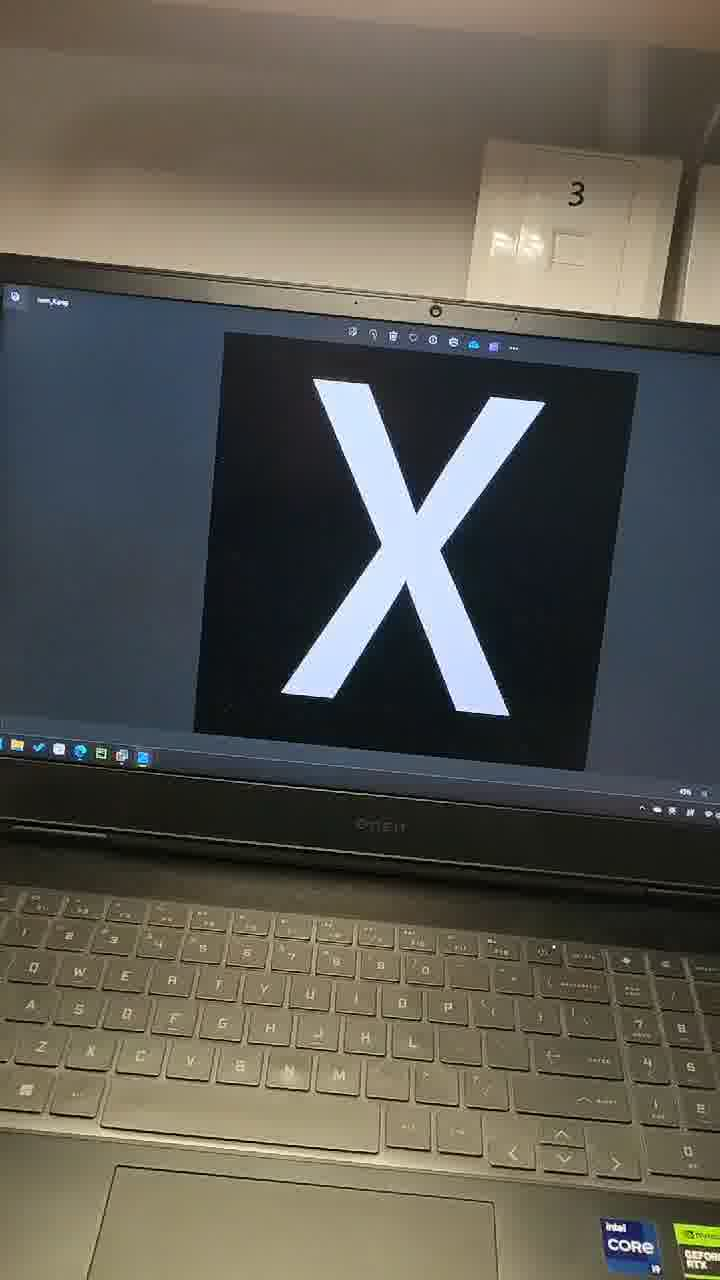X: (275, 355, 554, 763)
